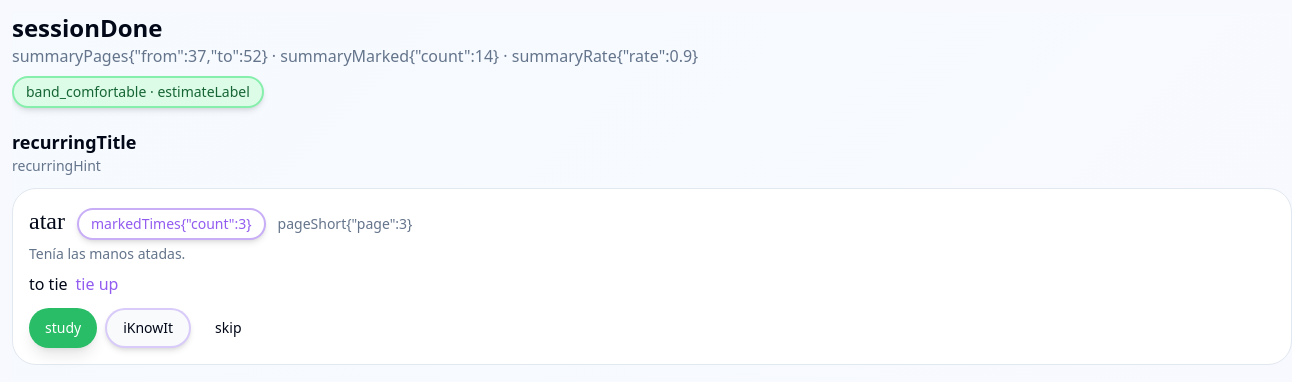
Test: BookTriage › keeps the word as New and says so when today's new-word limit is full
The image size is (1292, 382).
Click the button "study". click: (63,328)
box: 29,308 -> 97,348
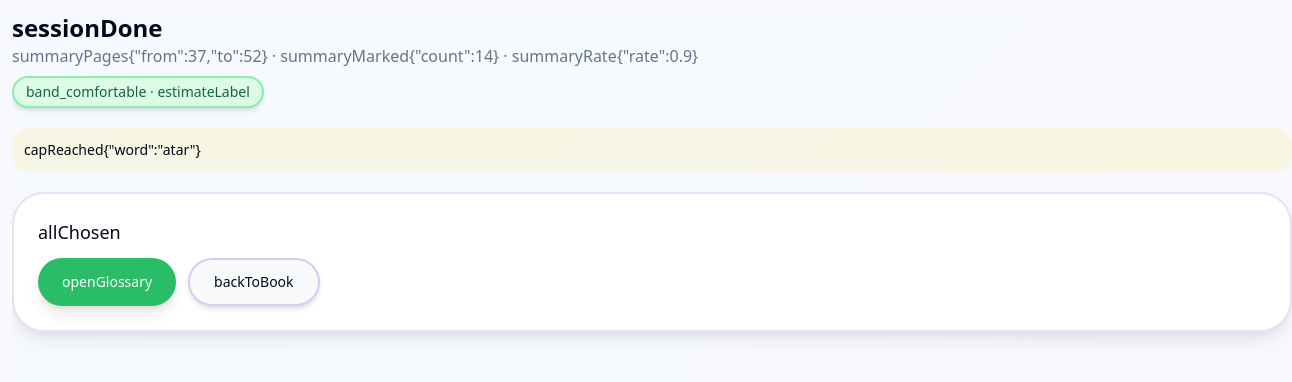
Check: the message shows "capReached", box 24,140 -> 201,159
Check: the list item with test id "triage-item" is gone
